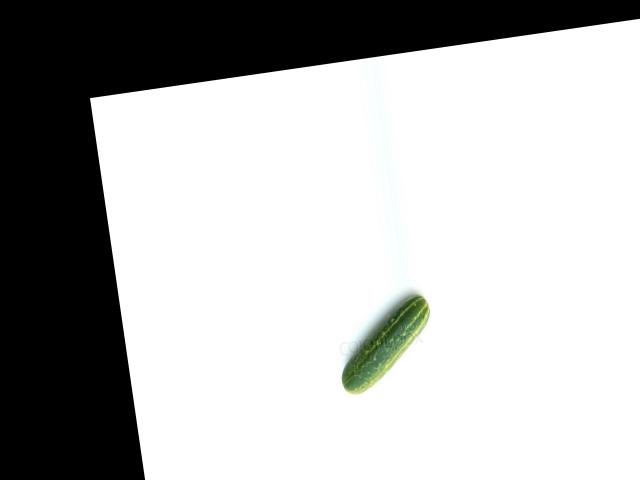cucumber: (332, 293, 441, 396)
